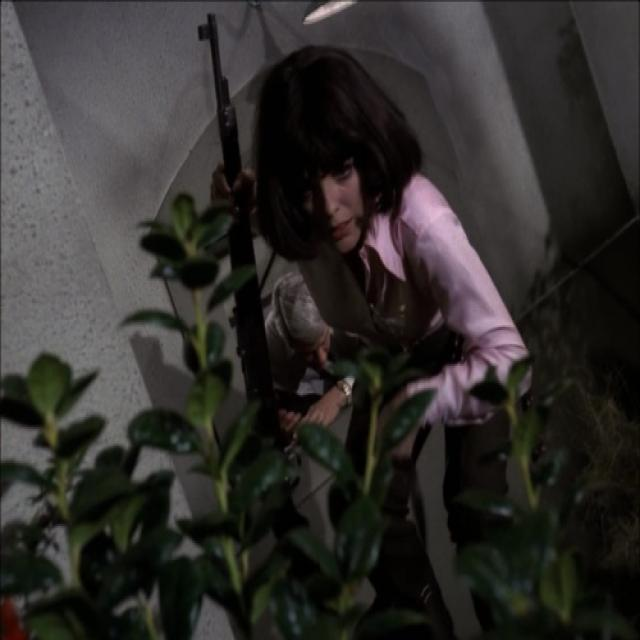rifle: (189, 1, 312, 547)
